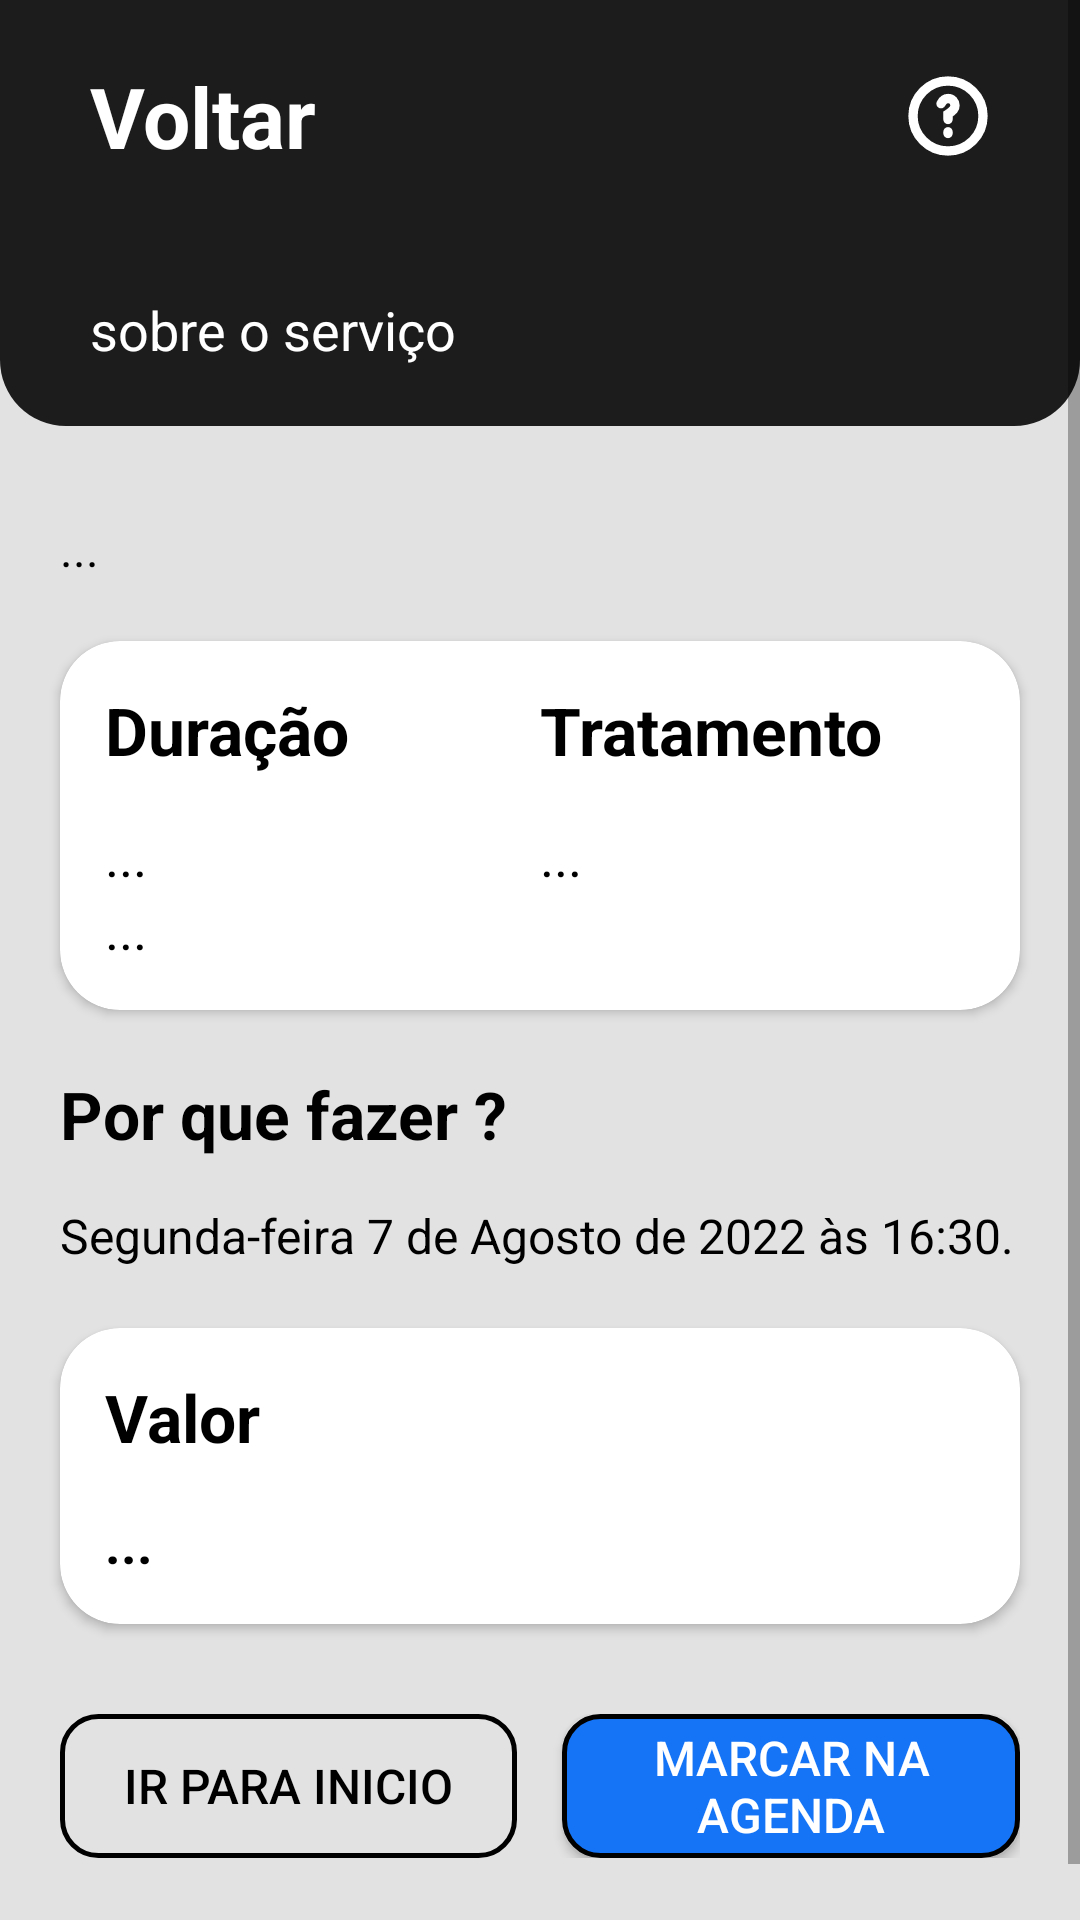

Icons on this 1080 x 1920 Android screen, each with the point to tap as point (x, y):
interrogacao: point (948, 116)
